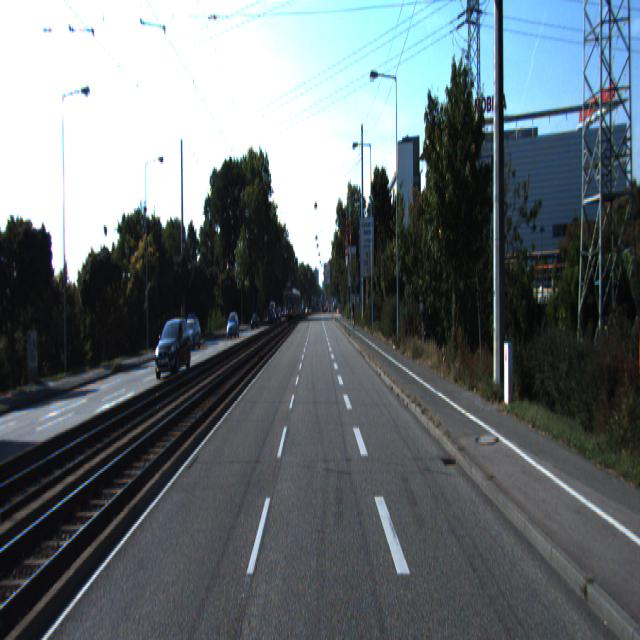Car: (153, 318, 192, 382), (180, 317, 202, 355)
